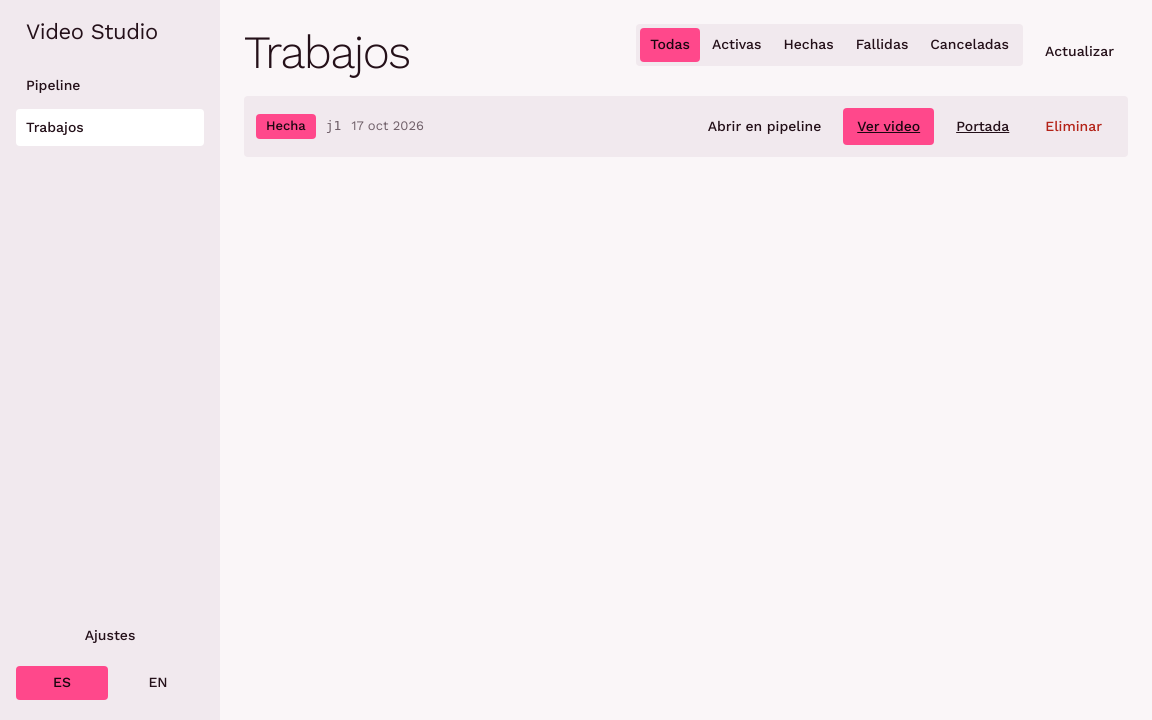
Test: App shell › shows the jobs view at #trabajos and switches back via the sidebar links
Expected: the heading "Trabajos" is shown, [244,29,410,75]
Expected: the text "Hecha" is shown, [256,114,316,139]
Step 1. Click the link "Pipeline" → [53, 85], box [26,77,80,93]
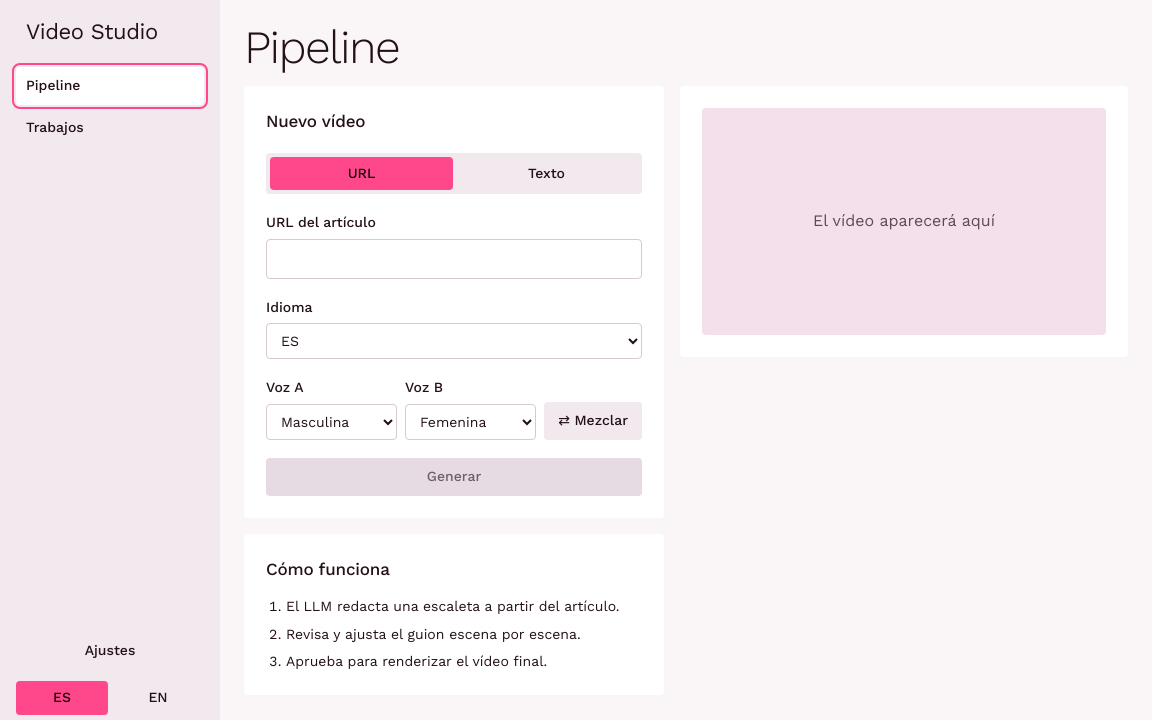
Expected: the heading "Pipeline" is shown, [244,20,399,74]
Expected: the button "Hecha" is gone
Step 2. Click the link "Trabajos" → [55, 127], box [26,119,84,135]
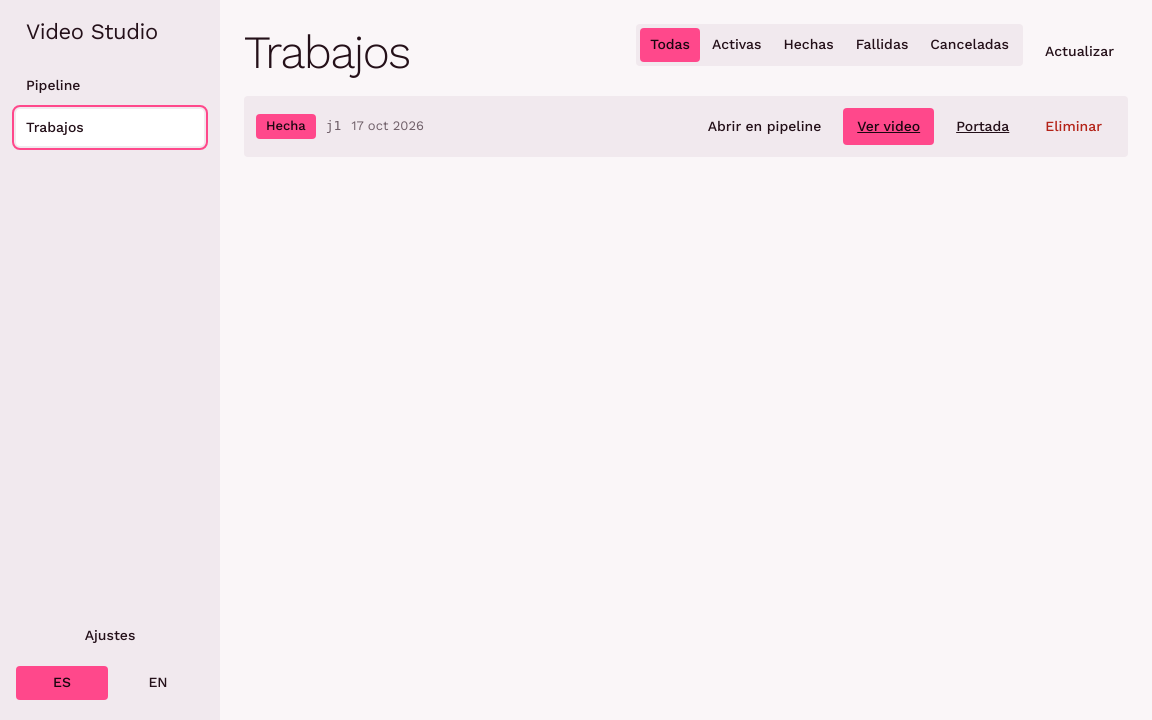
Expected: the heading "Trabajos" is shown, [244,29,410,75]
